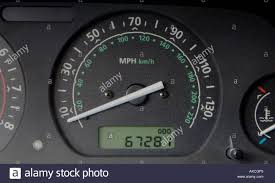Digital_Meter: (97, 123, 178, 149)
